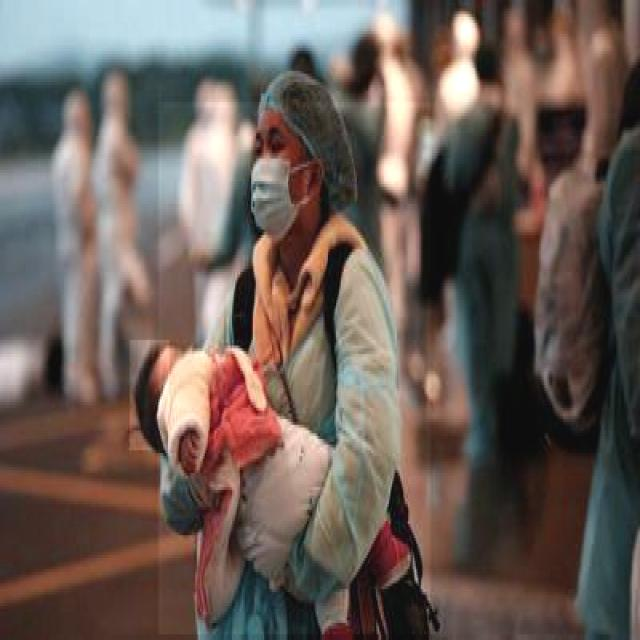face_mask: (251, 119, 304, 238)
hand_noglove: (181, 422, 200, 473)
head_nohelmet: (249, 65, 338, 142), (130, 340, 171, 453)
person: (158, 102, 432, 637)
